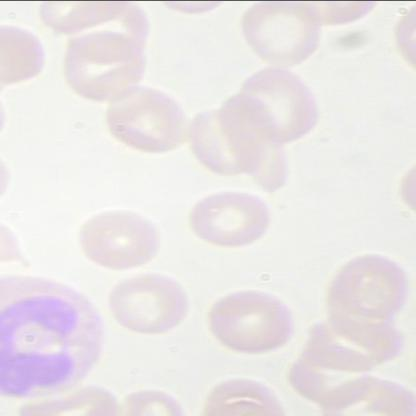RBC: (224, 62, 328, 150), (102, 74, 194, 172), (216, 90, 296, 200), (318, 246, 415, 324), (62, 26, 158, 104), (200, 285, 298, 361), (74, 200, 170, 274), (232, 0, 332, 70), (182, 187, 276, 254), (103, 271, 197, 337), (1, 18, 56, 88)
WBC: (1, 270, 109, 401)
